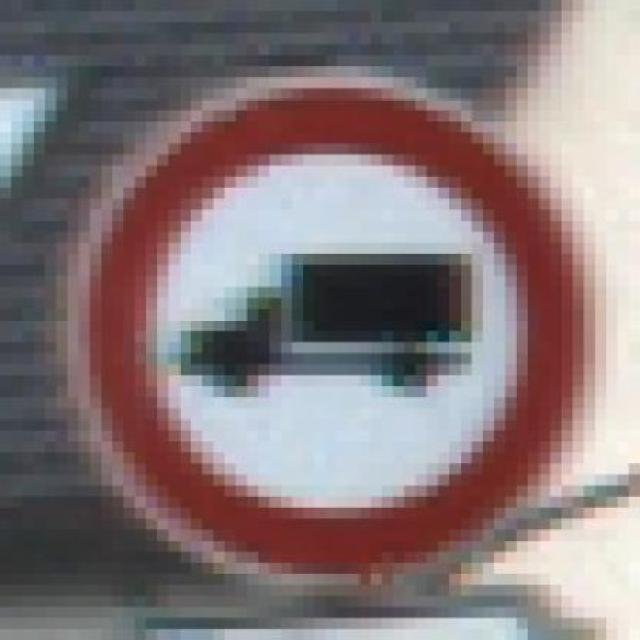Truck traffic is prohibited: (22, 33, 595, 618)
